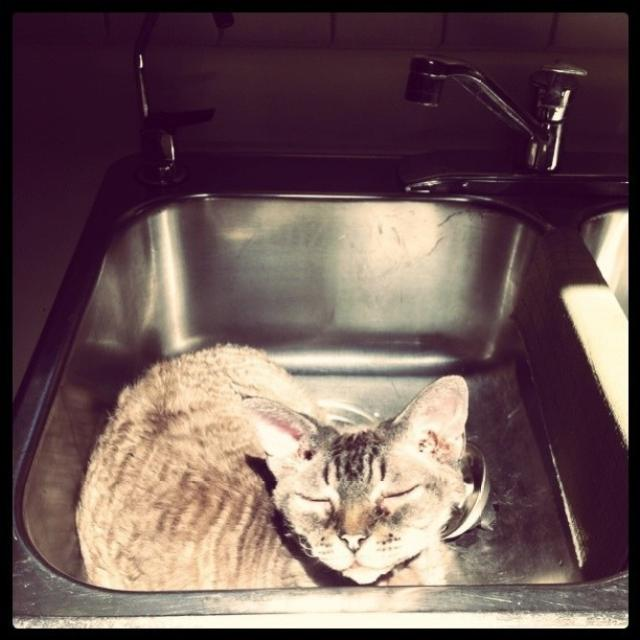cat: (66, 293, 486, 605)
